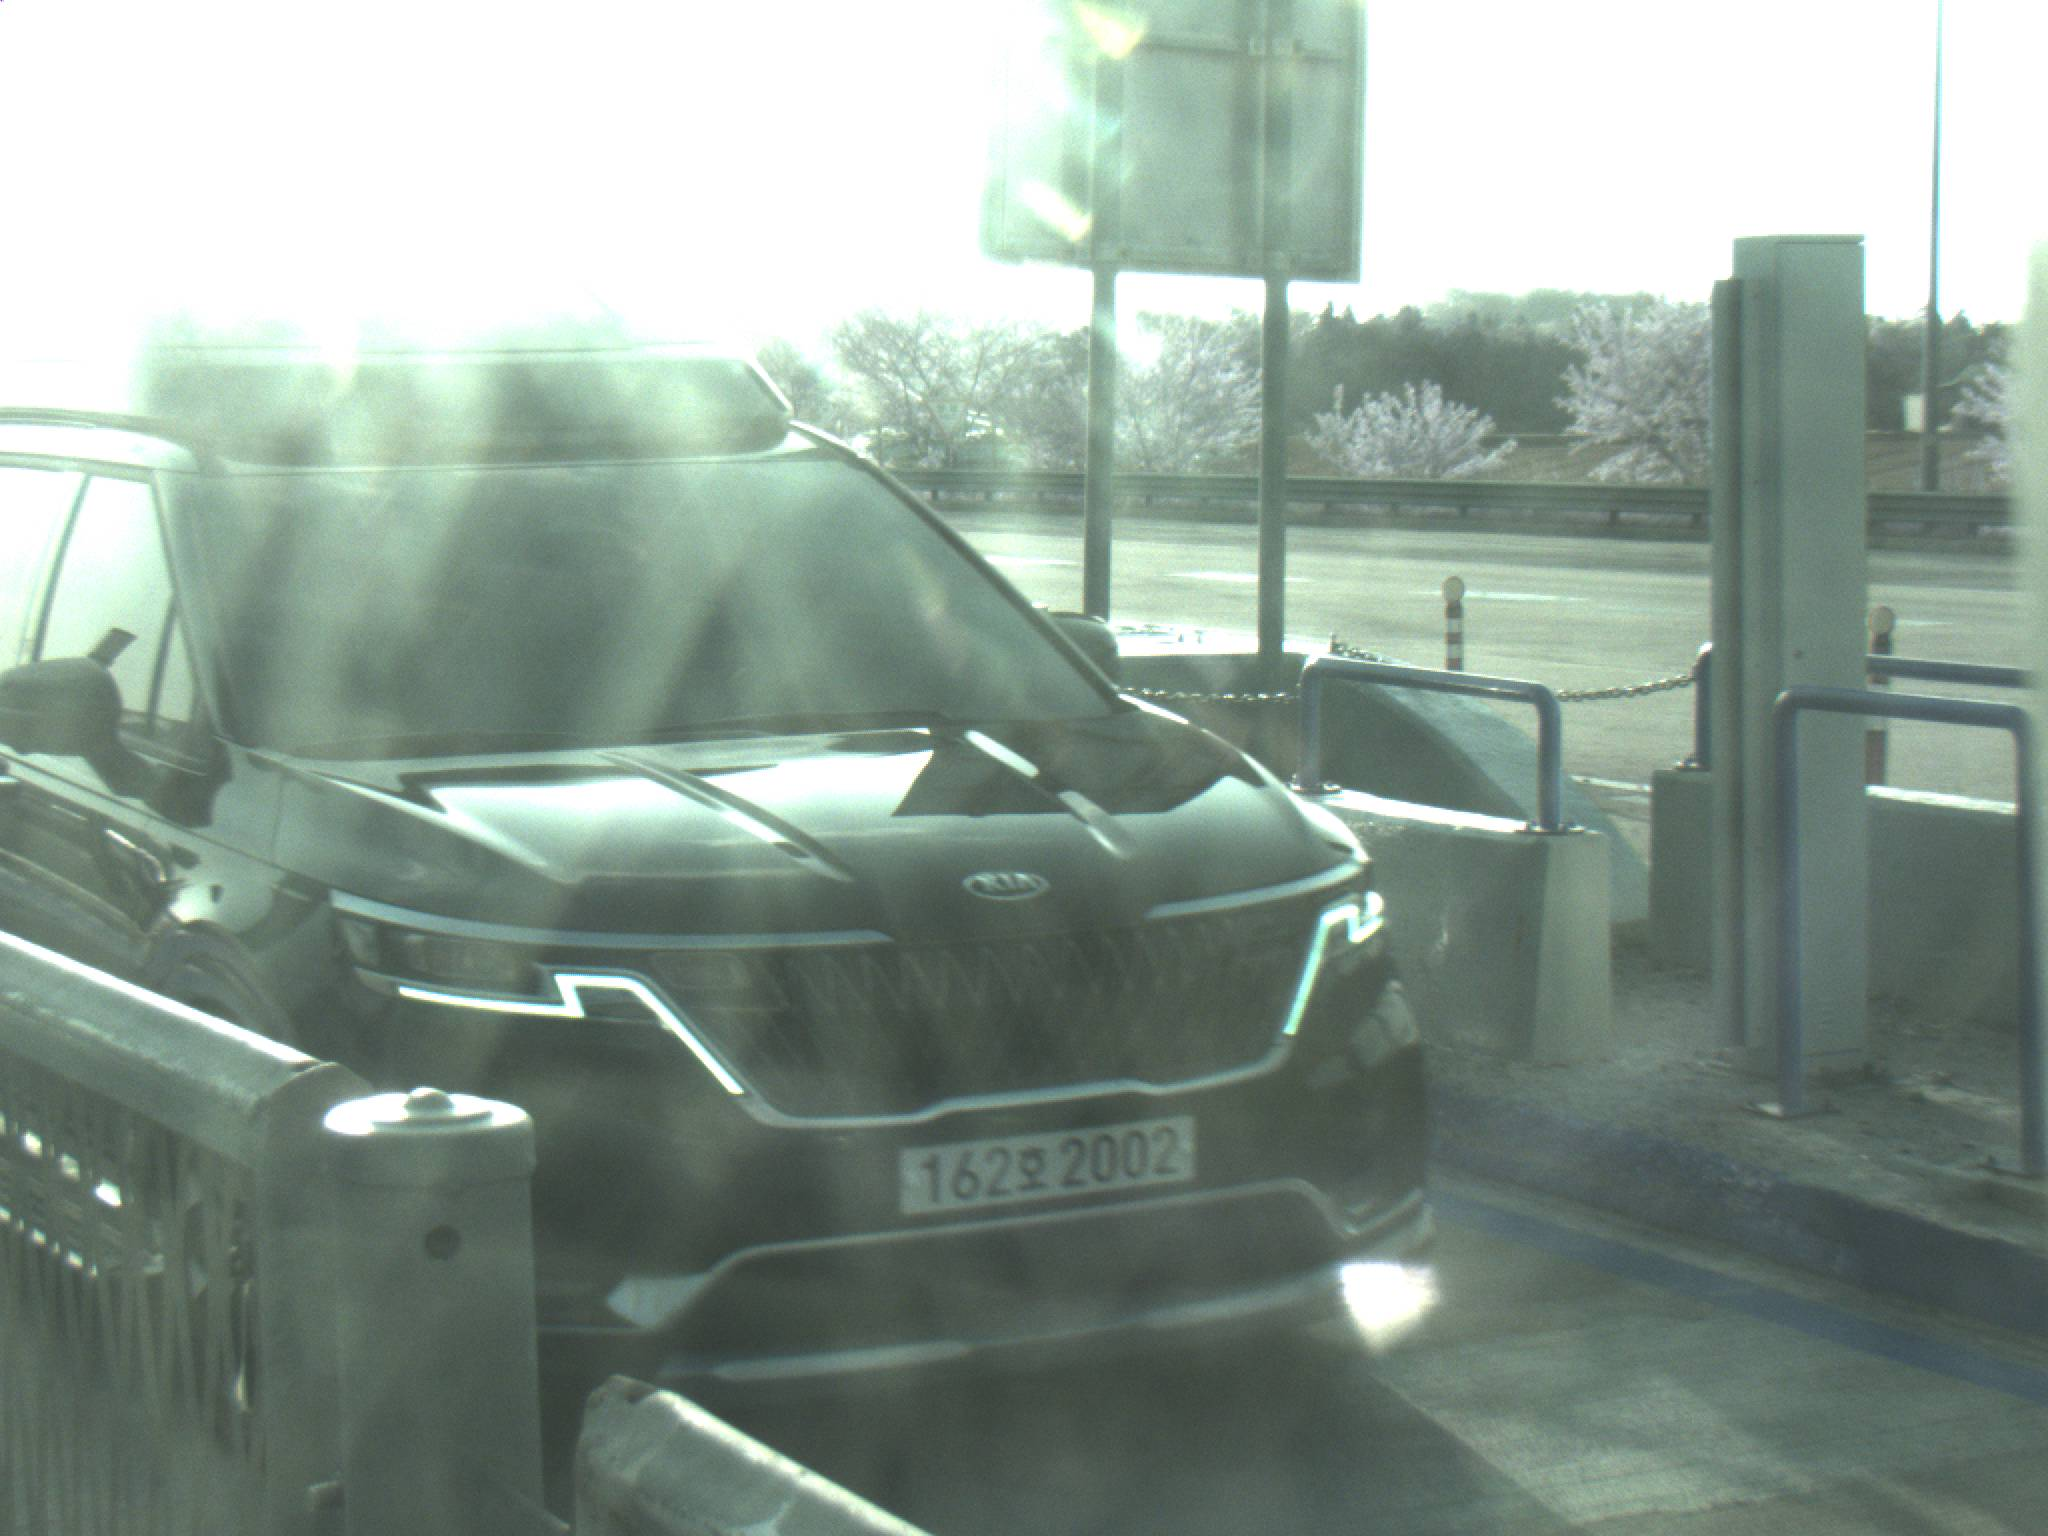car: (1, 343, 1448, 1492)
plate: (882, 1111, 1199, 1219)
